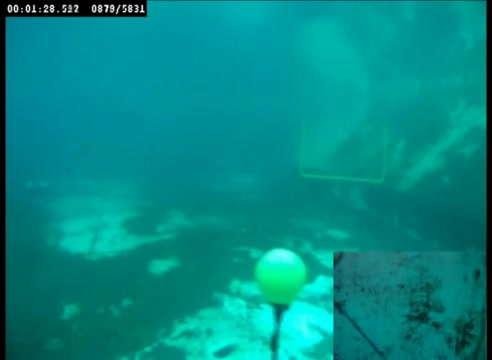channel: (296, 117, 391, 185)
